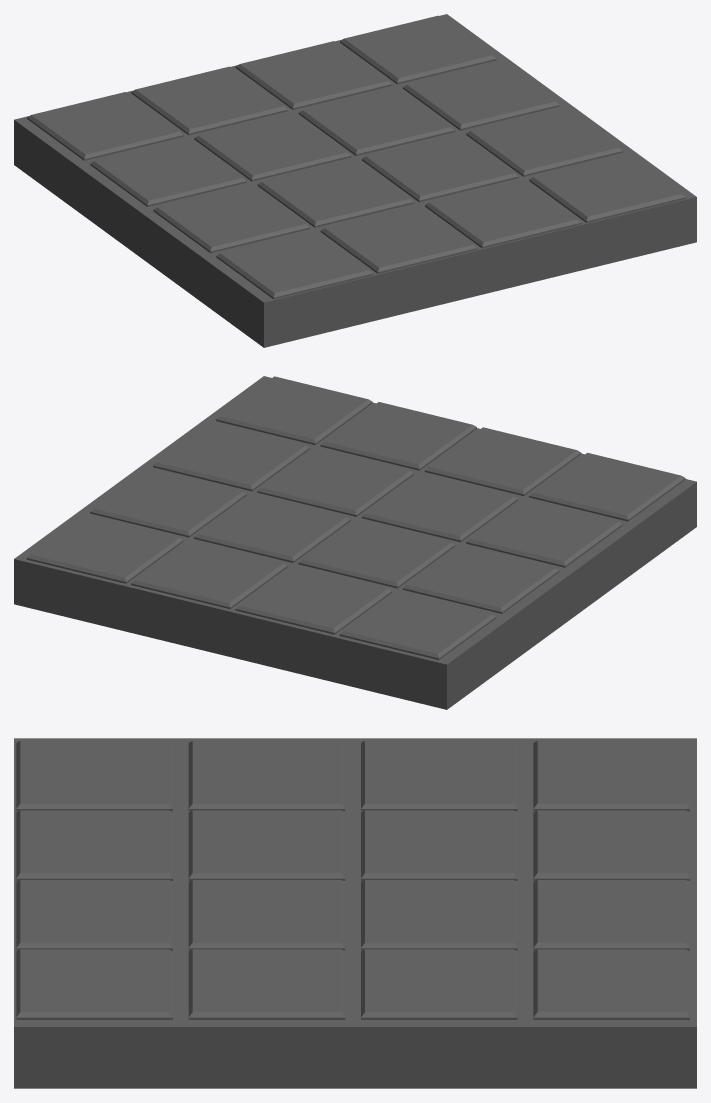
File: BrickFloor.fbx
The picture shows the model from 3 angles, top to bottom: view 1: azimuth 30°, elevation 25°; view 2: azimuth 150°, elevation 25°; view 3: azimuth 270°, elevation 25°; orthographic projection. The views are drawn at different scales.
Visible parts, largest first — view 1: BrickFloor; view 2: BrickFloor; view 3: BrickFloor.
Part boxes in pixels (left/top/right/bottom): BrickFloor: left=14, top=14, right=696, bottom=347; BrickFloor: left=14, top=376, right=696, bottom=709; BrickFloor: left=14, top=738, right=696, bottom=1088.
Bounding box in the file's own units: 200 × 22 × 200.
